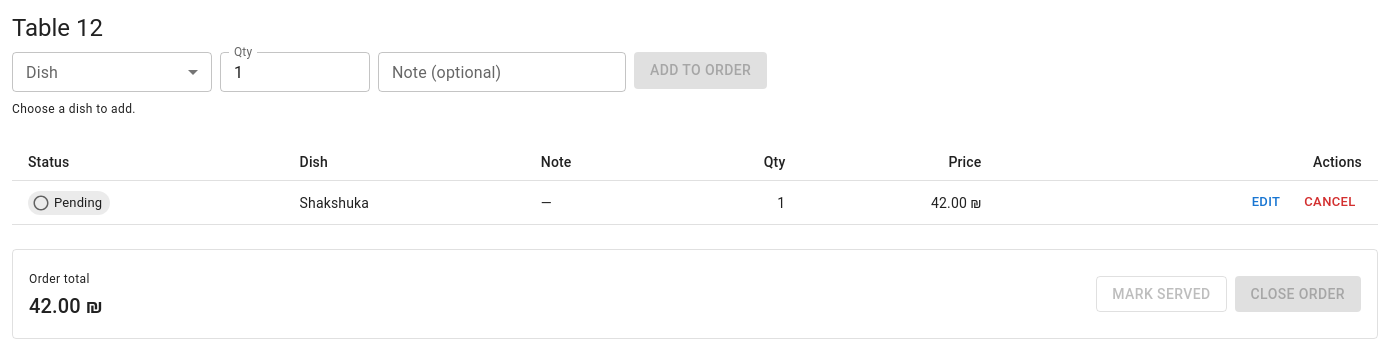
TableOrderDetailPage › cancels a pending item immediately, with no confirm step
The width and height of the screenshot is (1378, 356).
What coordinates should you click on to do the following:
click the button "Cancel"
I would click on:
 (1330, 203)
Its box is 1298,187 -> 1362,218.
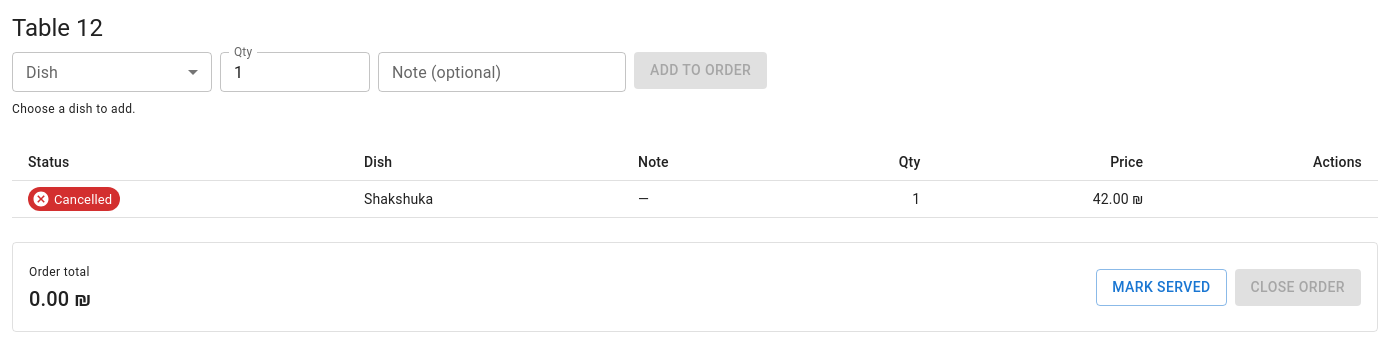
Expected: the text "Cancelled" is shown, 54,192 -> 112,207
